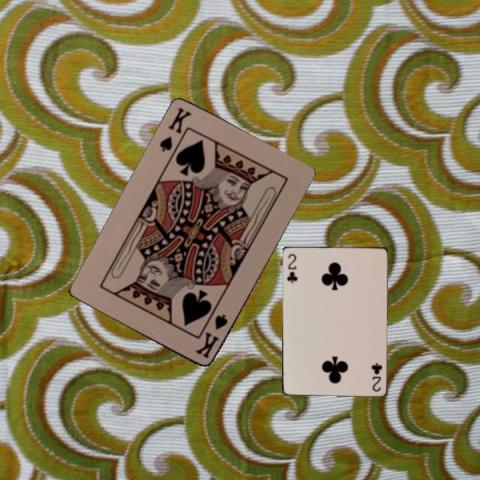2c: (283, 251, 299, 284), (369, 360, 383, 393)
Ks: (192, 311, 229, 361), (156, 105, 193, 154)
